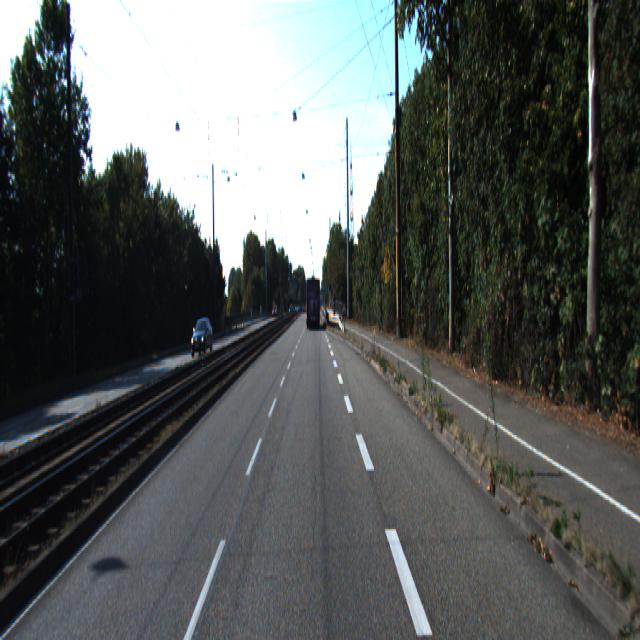Car: (189, 318, 213, 358), (306, 278, 320, 331)
